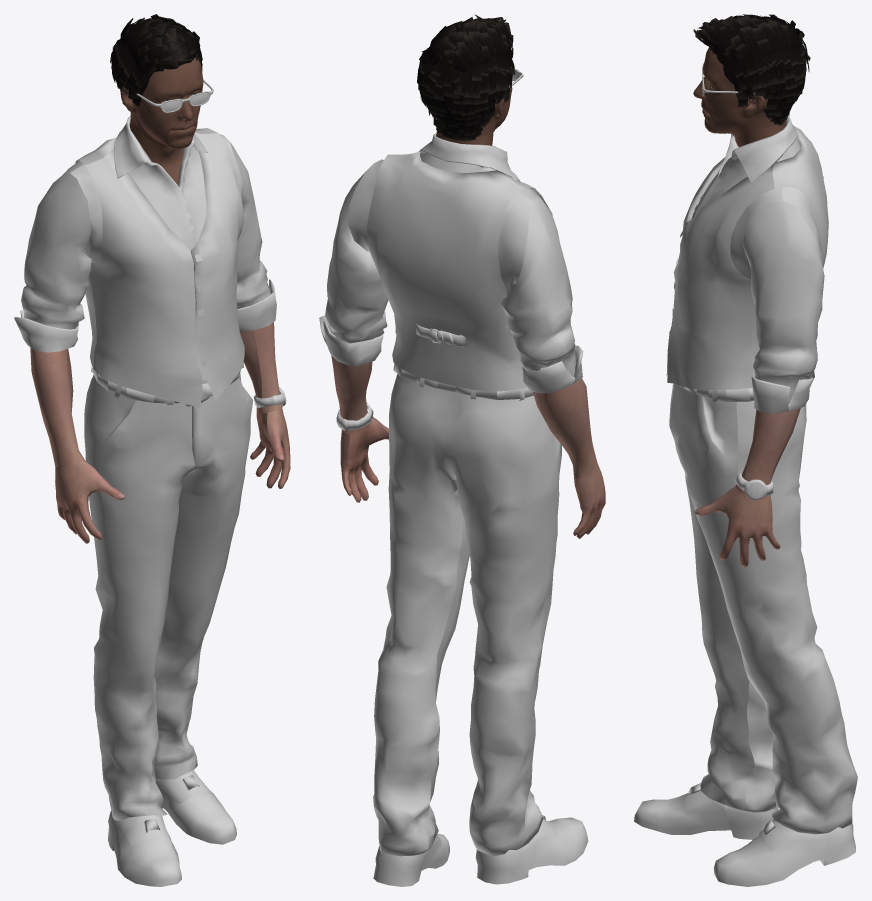
File: ManCassual-fbx.fbx
The picture shows the model from 3 angles, left to right: view 1: azimuth 30°, elevation 25°; view 2: azimuth 150°, elevation 25°; view 3: azimuth 270°, elevation 25°; orthographic projection. The views are drawn at different scales.
Visible parts, largest first — view 1: G_3DGeom_5, G_3DGeom_1, G_3DGeom_3, G_3DGeom_6; view 2: G_3DGeom_5, G_3DGeom_6, G_3DGeom_1, G_3DGeom_3; view 3: G_3DGeom_5, G_3DGeom_6, G_3DGeom_1, G_3DGeom_3.
Boxes of the visible parts, left/top/right/bottom form: G_3DGeom_5: left=14, top=116, right=286, bottom=886; G_3DGeom_1: left=30, top=322, right=290, bottom=543; G_3DGeom_3: left=120, top=57, right=203, bottom=183; G_3DGeom_6: left=110, top=14, right=202, bottom=106; G_3DGeom_5: left=319, top=133, right=588, bottom=886; G_3DGeom_6: left=417, top=14, right=514, bottom=140; G_3DGeom_1: left=331, top=355, right=605, bottom=538; G_3DGeom_3: left=436, top=86, right=512, bottom=145; G_3DGeom_5: left=634, top=115, right=857, bottom=886; G_3DGeom_6: left=693, top=14, right=810, bottom=125; G_3DGeom_1: left=695, top=408, right=800, bottom=567; G_3DGeom_3: left=693, top=47, right=786, bottom=147.
Bounding box in the file's own units: 473 × 1460 × 354.
